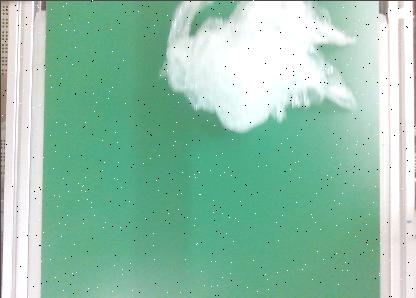Others: (157, 0, 361, 135)
